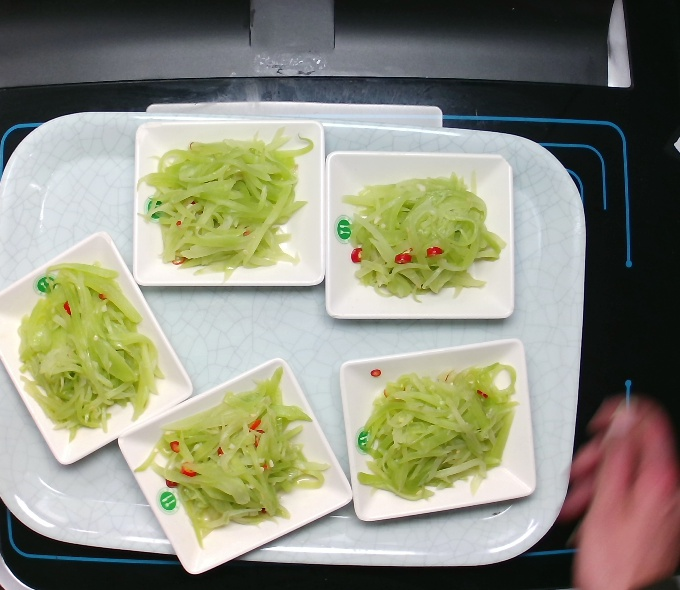wcq-YanWoSun: (141, 365, 342, 548), (9, 249, 164, 445), (135, 122, 324, 276), (353, 348, 526, 504), (333, 174, 517, 310)
